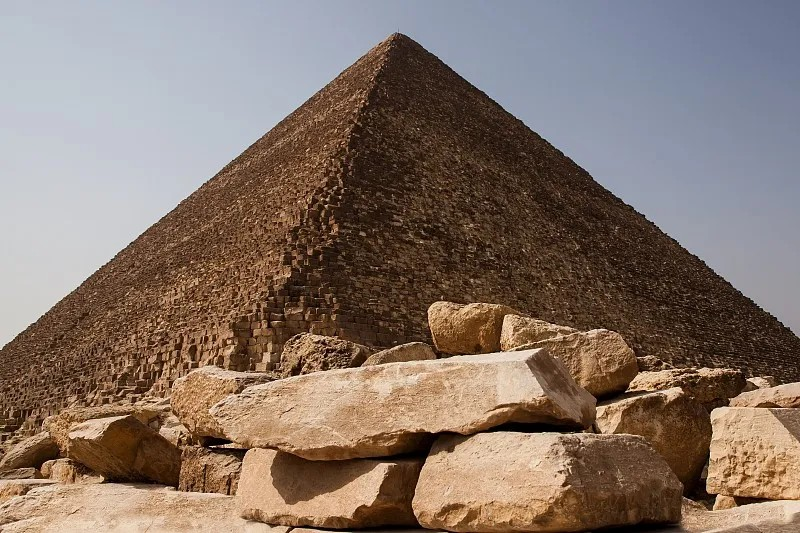Pyramid: (1, 31, 800, 385)
